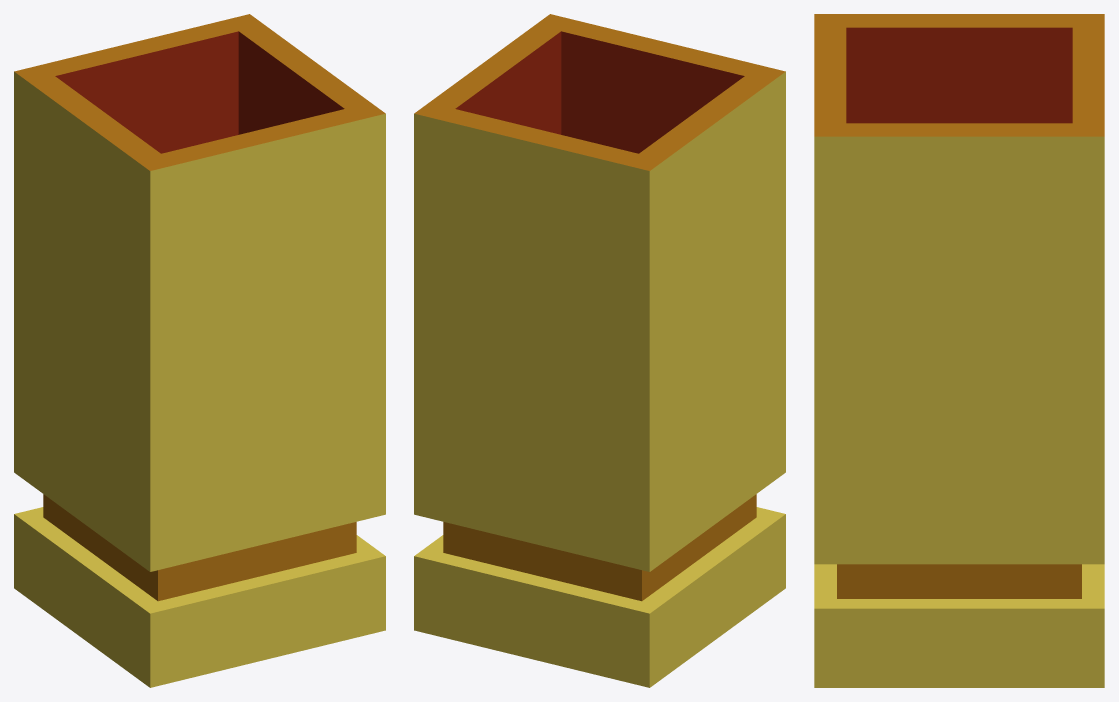
3 renders of one model, left to right at view 1: azimuth 30°, elevation 25°; view 2: azimuth 150°, elevation 25°; view 3: azimuth 270°, elevation 25°, orthographic. The views are drawn at different scales.
Parts seen in each view (by area): view 1: 9MM; view 2: 9MM; view 3: 9MM.
Part boxes in pixels (x1,y1,x2,y2): 9MM: (14, 14, 385, 687); 9MM: (414, 14, 785, 687); 9MM: (814, 14, 1104, 687).
Bounding box in the file's own units: 71.23 × 149 × 71.23.
